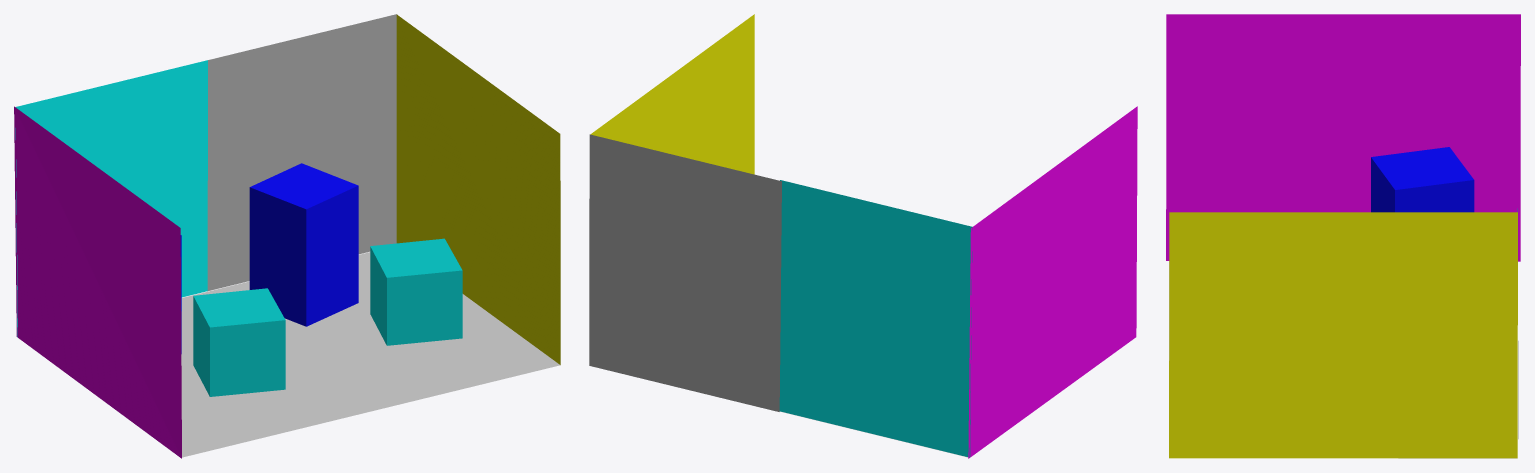
3 renders of one model, left to right at view 1: azimuth 30°, elevation 25°; view 2: azimuth 150°, elevation 25°; view 3: azimuth 270°, elevation 25°, orthographic. The views are drawn at different scales.
Parts seen in each view (by area): view 1: left_wall, right_wall, MirrorWall_back_wall, floor, back_wall_back_wall.001, tall_box.001, short_box, short_box.001; view 2: MirrorWall_back_wall, back_wall_back_wall.001, left_wall, right_wall; view 3: right_wall, left_wall, tall_box.
Part boxes in pixels (x1,y1,x2,y2): left_wall: (14, 106, 181, 458); right_wall: (396, 14, 560, 364); MirrorWall_back_wall: (207, 14, 397, 290); floor: (181, 252, 560, 457); back_wall_back_wall.001: (15, 60, 207, 337); tall_box.001: (249, 163, 358, 326); short_box: (193, 288, 285, 396); short_box.001: (370, 238, 462, 345); MirrorWall_back_wall: (589, 134, 781, 411); back_wall_back_wall.001: (779, 180, 972, 457); left_wall: (968, 106, 1137, 458); right_wall: (590, 14, 754, 174); right_wall: (1169, 212, 1517, 458); left_wall: (1166, 14, 1520, 261); tall_box: (1371, 147, 1474, 212).
Bounding box in the file's own units: 9.49 × 5.54 × 7.17.
